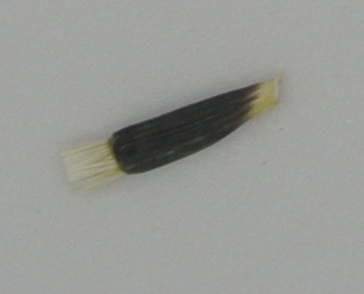เมล็ดดีติดกัน: (58, 73, 285, 198)
